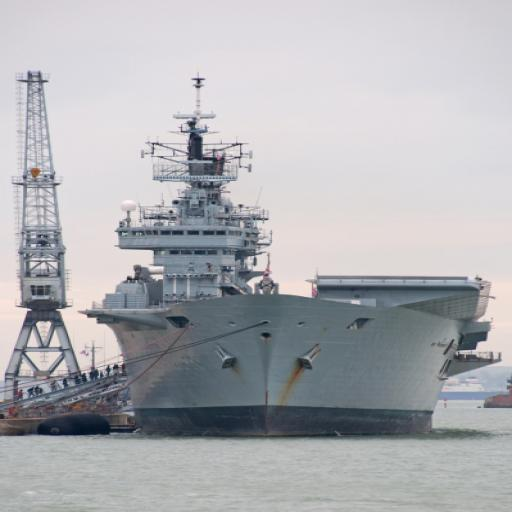Portanaves: (73, 65, 506, 439)
